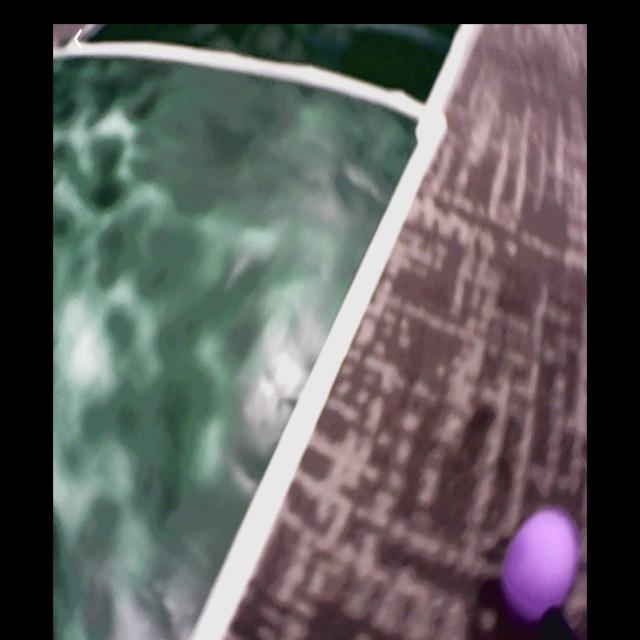ball: (505, 510, 582, 620)
